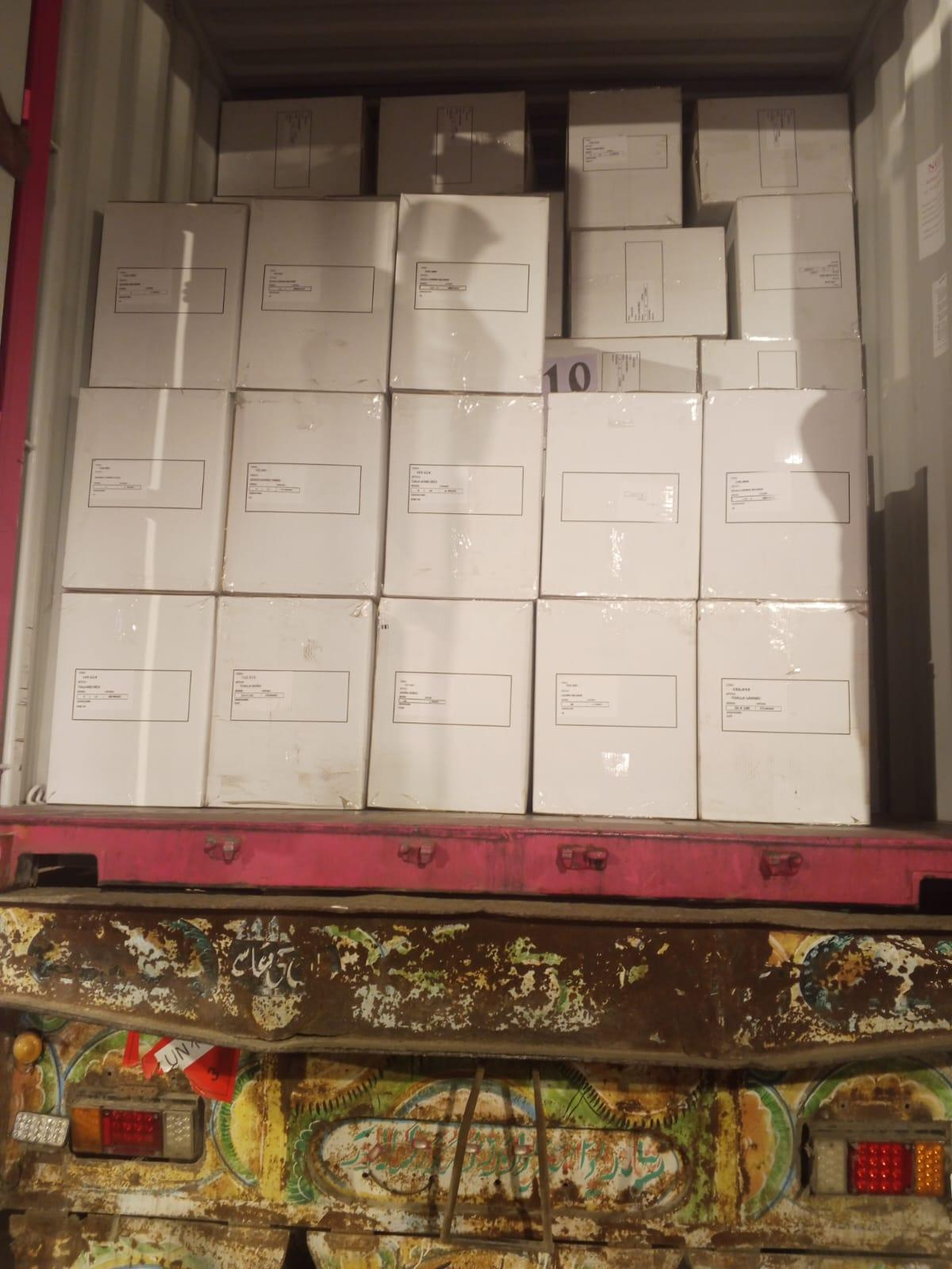carton: (697, 601, 871, 826), (40, 595, 215, 807), (533, 600, 697, 819), (205, 597, 375, 808), (701, 390, 869, 602), (367, 599, 533, 813), (61, 389, 234, 593), (222, 392, 390, 598), (389, 195, 562, 393), (540, 392, 703, 600), (383, 393, 545, 600), (236, 197, 398, 392), (89, 202, 249, 390), (689, 94, 851, 223), (726, 195, 860, 341), (569, 226, 726, 338), (566, 88, 682, 229), (376, 92, 531, 197), (217, 97, 370, 201), (546, 335, 698, 393), (700, 339, 862, 392)
